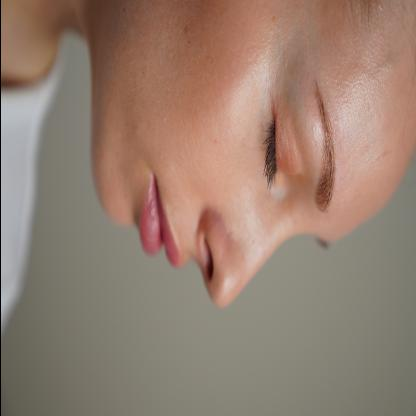Eye: (257, 90, 315, 204)
Mouth: (133, 174, 187, 276)
Nose: (193, 204, 277, 310)
